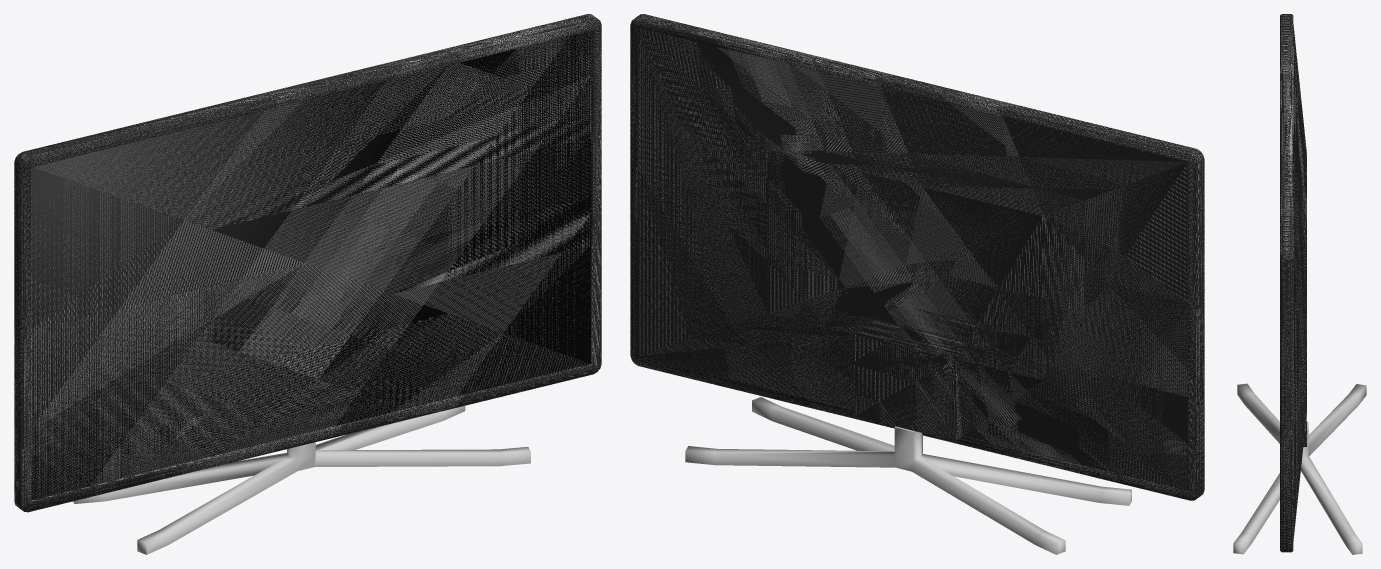
Rendered from tv46round.dae.
The picture shows the model from 3 angles, left to right: view 1: azimuth 30°, elevation 25°; view 2: azimuth 150°, elevation 25°; view 3: azimuth 270°, elevation 25°; orthographic projection. The views are drawn at different scales.
Visible parts, largest first — view 1: group_0 (×3), group_1; view 2: group_0 (×2), group_1; view 3: group_0 (×2), group_1.
Part boxes in pixels (bbox=[...]): group_0 (×3): bbox=[14, 14, 601, 512]; group_1: bbox=[73, 406, 530, 554]; group_0 (×2): bbox=[630, 14, 1204, 500]; group_1: bbox=[685, 397, 1131, 554]; group_0 (×2): bbox=[1280, 14, 1306, 552]; group_1: bbox=[1233, 383, 1366, 554].
Size of the model in its own units: 41.73 by 9.75 by 27.56.
